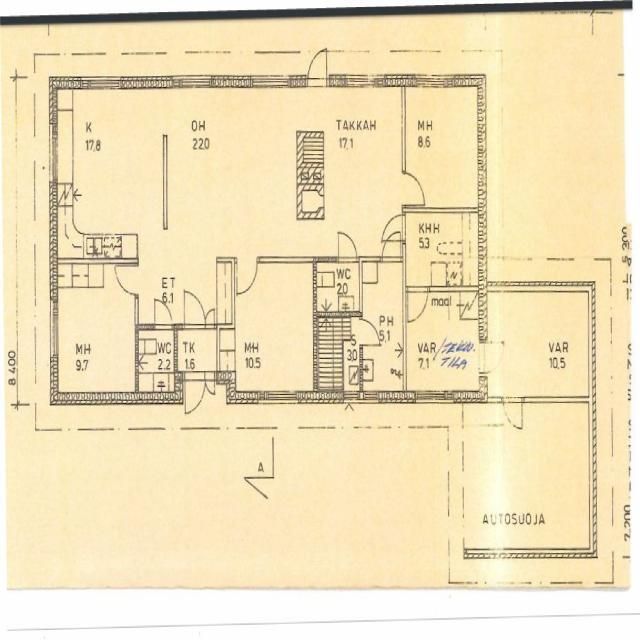door: (402, 172, 428, 206), (478, 343, 506, 373), (307, 46, 326, 89), (185, 371, 205, 411), (184, 291, 205, 328), (408, 286, 428, 322), (237, 257, 257, 292), (338, 228, 357, 262), (116, 266, 139, 294), (503, 397, 522, 430), (382, 229, 401, 262), (154, 297, 172, 328), (385, 215, 405, 241), (360, 320, 380, 345), (205, 371, 215, 396), (205, 309, 215, 328)
